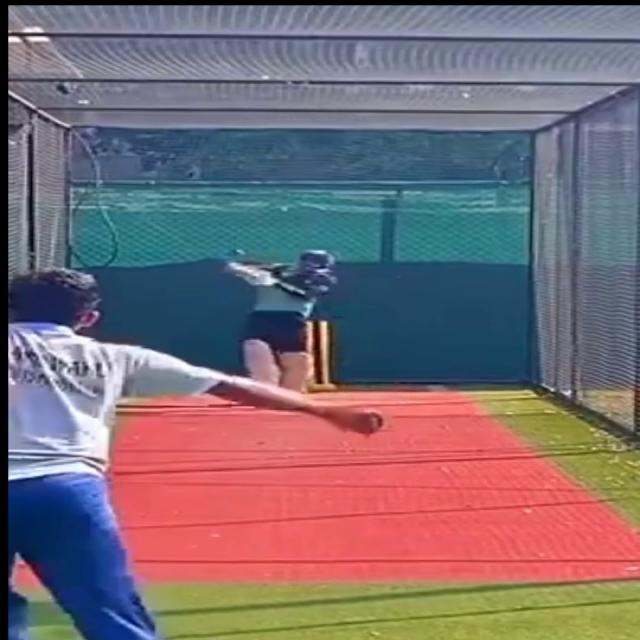ball: (230, 247, 246, 257)
stump: (299, 318, 339, 393)
